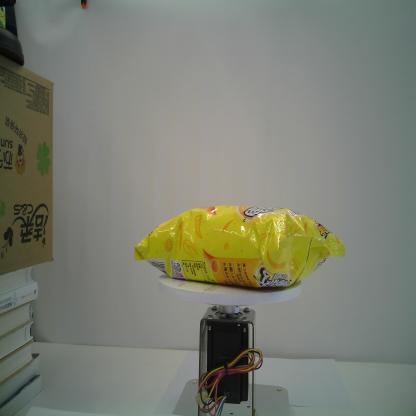Puffed Food: (132, 205, 346, 289)
